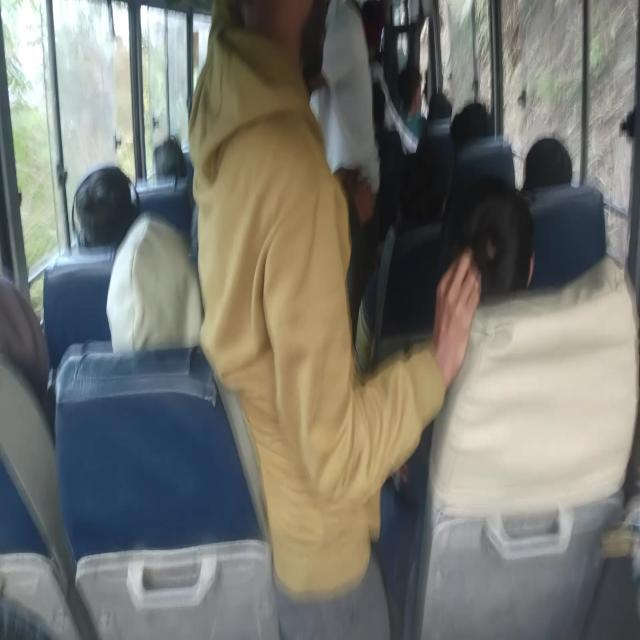person: (201, 0, 406, 476), (314, 41, 379, 194), (103, 228, 177, 358), (456, 178, 520, 286), (366, 0, 417, 115), (0, 272, 45, 372), (78, 168, 133, 240), (529, 136, 570, 198), (367, 79, 397, 159), (400, 60, 437, 119), (186, 201, 221, 257), (152, 129, 186, 179), (458, 107, 492, 142), (431, 91, 454, 138)
